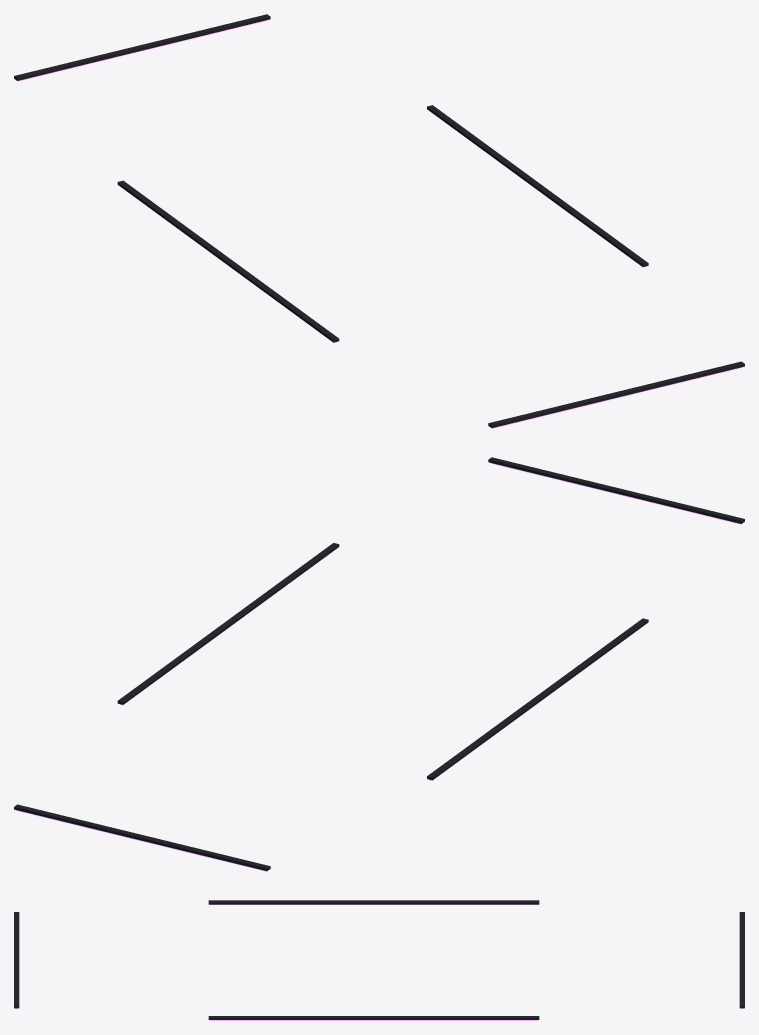
Rendered from vortex_r.glb.
3 renders of one model, top to bottom at view 1: azimuth 30°, elevation 25°; view 2: azimuth 150°, elevation 25°; view 3: azimuth 270°, elevation 25°, orthographic. The views are drawn at different scales.
Parts seen in each view (by area): view 1: model; view 2: model; view 3: model.
Boxes of the visible parts, left/top/right/bottom form: model: left=14, top=14, right=744, bottom=428; model: left=14, top=457, right=744, bottom=871; model: left=14, top=900, right=744, bottom=1020.
Bounding box in the file's own units: 1.51 × 0.0179 × 3.96.
Materials: 2 (1 with a texture image).
